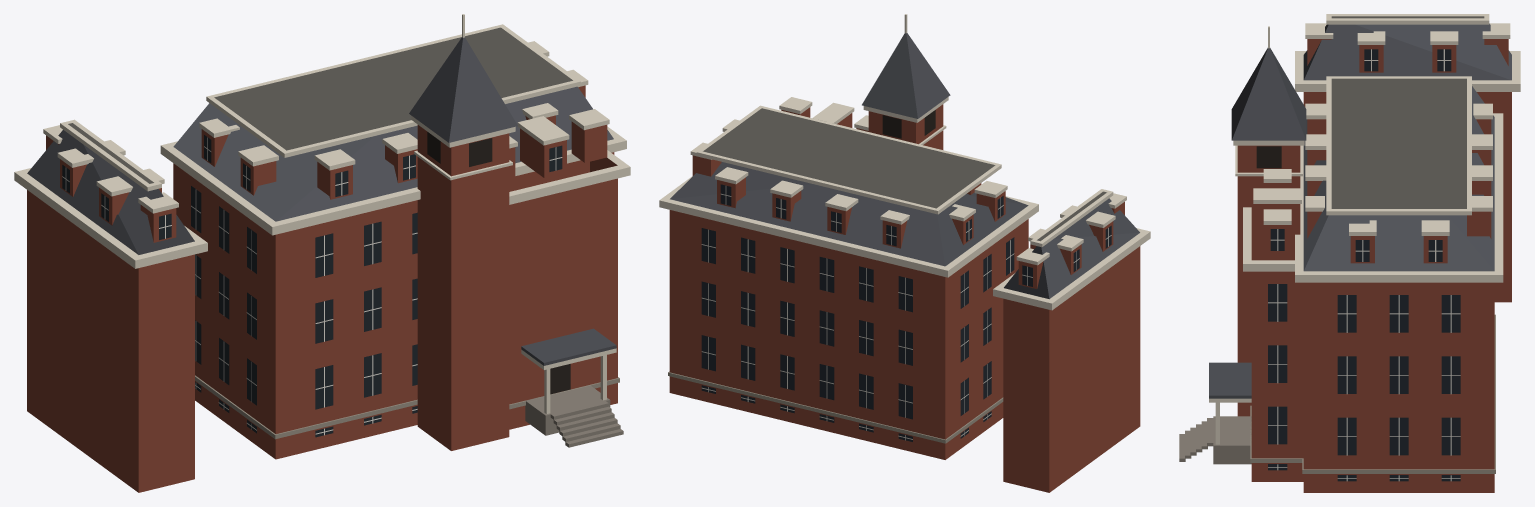
The model's file is philander-smith-epworth-hall-1913.glb.
3 renders of one model, left to right at view 1: azimuth 30°, elevation 25°; view 2: azimuth 150°, elevation 25°; view 3: azimuth 270°, elevation 25°, orthographic. The views are drawn at different scales.
Visible parts, largest first — view 1: philander_brick, philander_slate, philander_trim, philander_tar, philander_glass, philander_base, philander_sash, philander_stone, philander_dark; view 2: philander_brick, philander_slate, philander_trim, philander_tar, philander_glass, philander_sash, philander_stone, philander_dark; view 3: philander_brick, philander_slate, philander_trim, philander_tar, philander_glass, philander_base, philander_stone, philander_sash, philander_dark.
Boxes of the visible parts, left/top/right/bottom form: philander_brick: left=27, top=85, right=617, bottom=492; philander_slate: left=27, top=37, right=616, bottom=365; philander_trim: left=14, top=14, right=630, bottom=413; philander_tar: left=68, top=27, right=572, bottom=183; philander_glass: left=62, top=121, right=562, bottom=437; philander_base: left=525, top=385, right=623, bottom=447; philander_sash: left=62, top=137, right=562, bottom=435; philander_stone: left=195, top=375, right=619, bottom=439; philander_dark: left=427, top=132, right=570, bottom=394; philander_brick: left=669, top=104, right=1140, bottom=492; philander_slate: left=670, top=33, right=1139, bottom=299; philander_trim: left=659, top=14, right=1150, bottom=310; philander_tar: left=703, top=108, right=1106, bottom=241; philander_glass: left=701, top=184, right=1111, bottom=441; philander_sash: left=701, top=186, right=1111, bottom=440; philander_stone: left=668, top=371, right=1003, bottom=443; philander_dark: left=882, top=110, right=935, bottom=138; philander_brick: left=1237, top=39, right=1511, bottom=492; philander_slate: left=1209, top=23, right=1511, bottom=398; philander_trim: left=1209, top=14, right=1520, bottom=444; philander_tar: left=1331, top=16, right=1484, bottom=208; philander_glass: left=1268, top=49, right=1460, bottom=481; philander_base: left=1179, top=416, right=1251, bottom=464; philander_stone: left=1250, top=314, right=1495, bottom=473; philander_sash: left=1268, top=49, right=1460, bottom=481; philander_dark: left=1256, top=146, right=1281, bottom=168.
Size of the model in its own units: 30.5 by 24.74 by 19.67.
